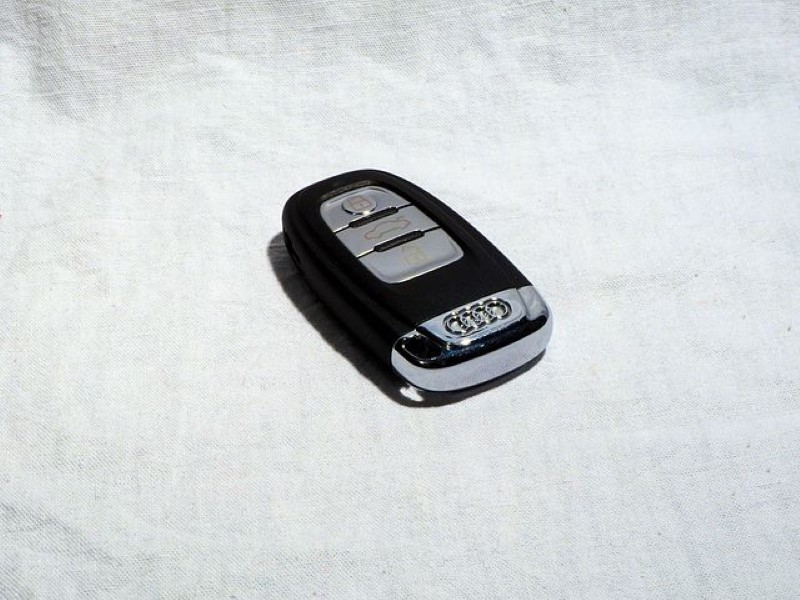carkey: (276, 164, 553, 410)
